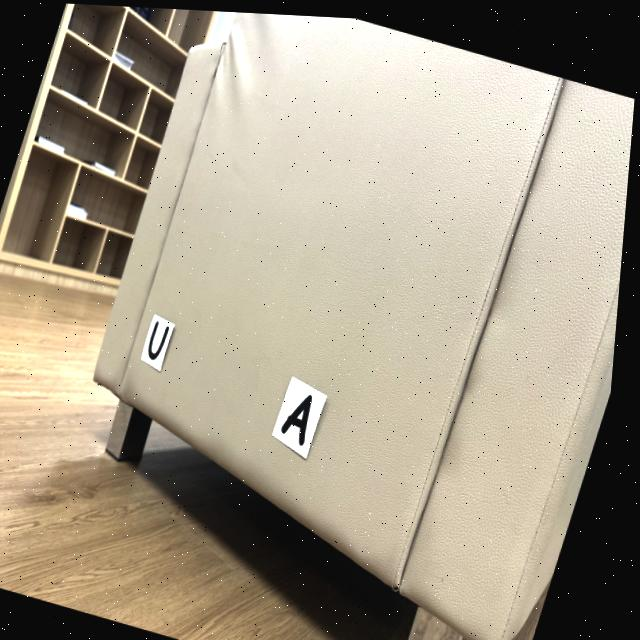A: (288, 390, 318, 441)
U: (153, 319, 174, 358)
